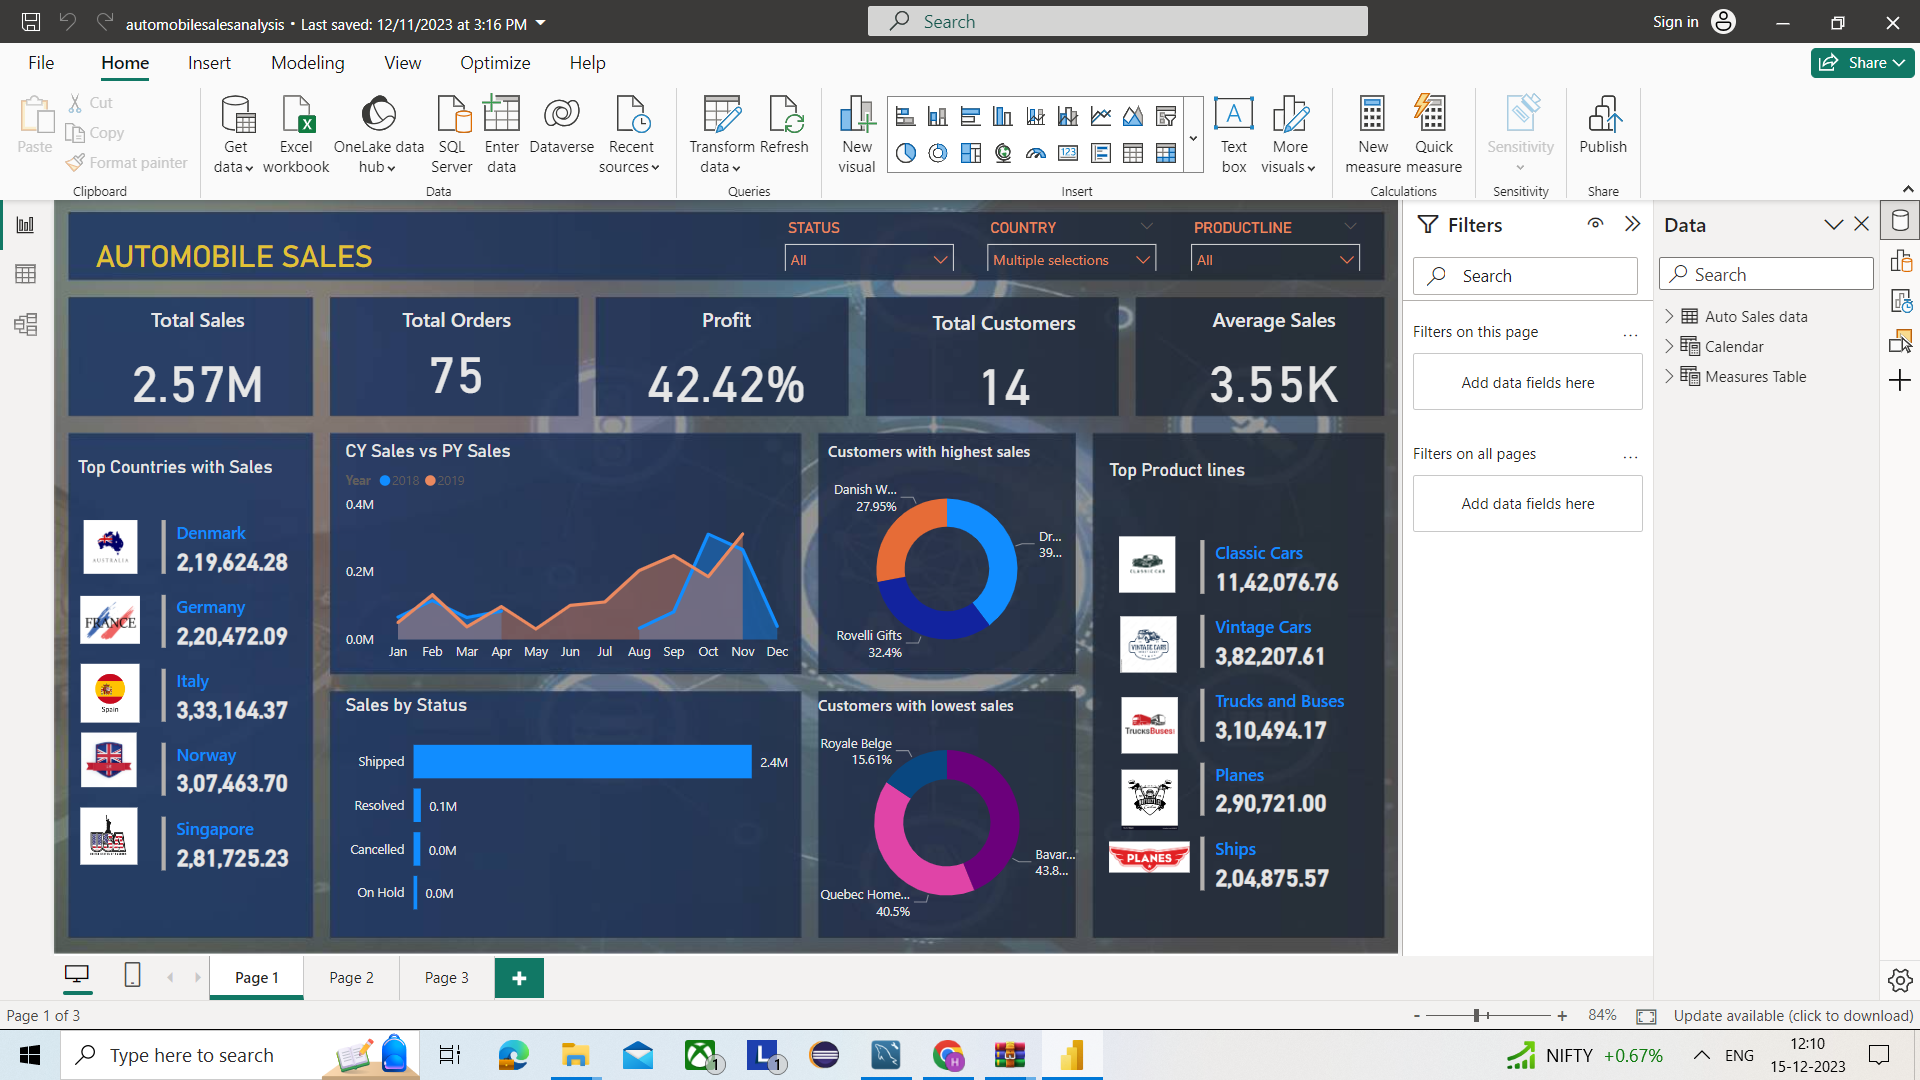

Layout of this report page (visuals, bound fields, positions):
{"tool":"powerbi","page":{"name":"Page 1","canvas":[1280,720],"ordinal":0},"visuals":[{"type":"card","title":"Total Orders","fields":{"Values":["Measures Table.Total Orders"]},"box":[272.5,101.2,221.4,95.2],"z":0},{"type":"card","title":"Total Sales","fields":{"Values":["Measures Table.Total Sales"]},"box":[17.9,101.2,238,113.1],"z":1000},{"type":"card","title":"Average Sales","fields":{"Values":["Measures Table.Average Sales"]},"box":[1042.5,101.2,238,113.1],"z":2000},{"type":"card","title":"Total Customers","fields":{"Values":["Measures Table.Total Countries"]},"box":[785.5,103.5,238,113.1],"z":3000},{"type":"card","title":"Profit","fields":{"Values":["Measures Table.Profit %"]},"box":[521.3,101.2,238,113.1],"z":4000},{"type":"areaChart","title":"CY Sales vs PY Sales","fields":{"Category":["Calendar.Month"],"Y":["Auto Sales data.SALES"],"Series":["Calendar.Date.Variation.Date Hierarchy.Year"]},"box":[272.5,228.5,434.4,220.2],"z":5000},{"type":"clusteredBarChart","title":" Sales by Status","fields":{"Y":["Measures Table.Total Sales"],"Category":["Auto Sales data.STATUS"]},"box":[272.5,470.1,434.4,228.5],"z":6000},{"type":"donutChart","title":" Customers with highest sales","fields":{"Category":["Auto Sales data.CUSTOMERNAME"],"Y":["Auto Sales data.SALES"]},"box":[731.9,228.5,236.8,226.1],"z":7000},{"type":"donutChart","title":"Customers with lowest sales","fields":{"Category":["Auto Sales data.CUSTOMERNAME"],"Y":["Auto Sales data.ORDERNUMBER"]},"box":[722.4,470.1,255.9,226.1],"z":8000},{"type":"multiRowCard","fields":{"Values":["Auto Sales data.COUNTRY","Auto Sales data.SALES"]},"box":[97.6,299.9,145.2,379.6],"z":9000},{"type":"multiRowCard","fields":{"Values":["Auto Sales data.SALES","Auto Sales data.PRODUCTLINE"]},"box":[1086.5,318.9,174.9,385.6],"z":10000},{"type":"slicer","fields":{"Values":["Auto Sales data.PRODUCTLINE"]},"box":[1072.3,13.1,180.9,54.7],"z":11000},{"type":"slicer","fields":{"Values":["Auto Sales data.COUNTRY"]},"box":[878.3,13.1,180.9,54.7],"z":12000},{"type":"slicer","fields":{"Values":["Auto Sales data.STATUS"]},"box":[685.5,13.1,180.9,54.7],"z":13000},{"type":"image","box":[17.9,573.6,67.8,64.3],"z":14000},{"type":"image","box":[17.9,502.2,67.8,61.9],"z":15000},{"type":"image","box":[19,436.8,67.8,65.5],"z":16000},{"type":"image","box":[20.2,371.3,66.6,57.1],"z":17000},{"type":"image","box":[20.2,299.9,66.6,60.7],"z":18000},{"type":"image","box":[1009.2,308.2,63.1,77.4],"z":19000},{"type":"image","box":[1010.4,391.5,63.1,63.1],"z":20000},{"type":"image","box":[1011.6,462.9,63.1,73.8],"z":21000},{"type":"image","box":[1011.6,536.7,63.1,69],"z":22000},{"type":"image","box":[1000.4,584,86.7,82.4],"z":23000},{"type":"textbox","box":[34.5,32.1,503.4,127.3],"z":24000},{"type":"textbox","box":[17.9,239.2,238,160.7],"z":25000},{"type":"textbox","box":[999.7,241.6,280.9,288],"z":26000},{"type":"slicer","fields":{"Values":["Auto Sales data.CUSTOMERNAME"]},"box":[494.5,12.8,181.9,55.4],"z":26001}]}

Visuals, with their boxes on the page's 1280x720 design canvas (x1, y1, x2, y2). These are canvas units, not pixel positions in the 1920x1080 screenshot, which may show the page scaled, cropped or inside an application window:
"Total Orders" card: 272, 101, 494, 196
"Total Sales" card: 18, 101, 256, 214
"Average Sales" card: 1042, 101, 1280, 214
"Total Customers" card: 786, 104, 1024, 217
"Profit" card: 521, 101, 759, 214
"CY Sales vs PY Sales" areaChart: 272, 228, 707, 449
" Sales by Status" clusteredBarChart: 272, 470, 707, 699
" Customers with highest sales" donutChart: 732, 228, 969, 455
"Customers with lowest sales" donutChart: 722, 470, 978, 696
multiRowCard - Auto Sales data.COUNTRY x Auto Sales data.SALES: 98, 300, 243, 680
multiRowCard - Auto Sales data.SALES x Auto Sales data.PRODUCTLINE: 1086, 319, 1261, 704
slicer - Auto Sales data.PRODUCTLINE: 1072, 13, 1253, 68
slicer - Auto Sales data.COUNTRY: 878, 13, 1059, 68
slicer - Auto Sales data.STATUS: 686, 13, 866, 68
image: 18, 574, 86, 638
image: 18, 502, 86, 564
image: 19, 437, 87, 502
image: 20, 371, 87, 428
image: 20, 300, 87, 361
image: 1009, 308, 1072, 386
image: 1010, 392, 1074, 455
image: 1012, 463, 1075, 537
image: 1012, 537, 1075, 606
image: 1000, 584, 1087, 666
textbox: 34, 32, 538, 159
textbox: 18, 239, 256, 400
textbox: 1000, 242, 1281, 530
slicer - Auto Sales data.CUSTOMERNAME: 494, 13, 676, 68
